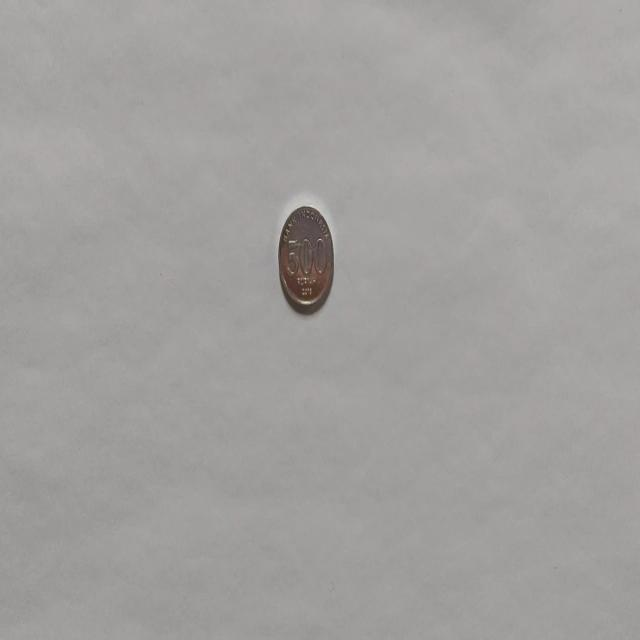lima ratus rupiah: (277, 204, 335, 314)
